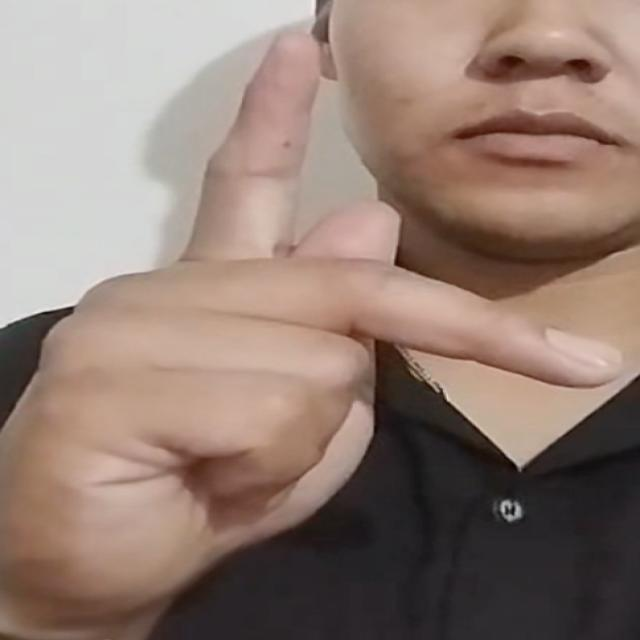P: (0, 20, 627, 628)
